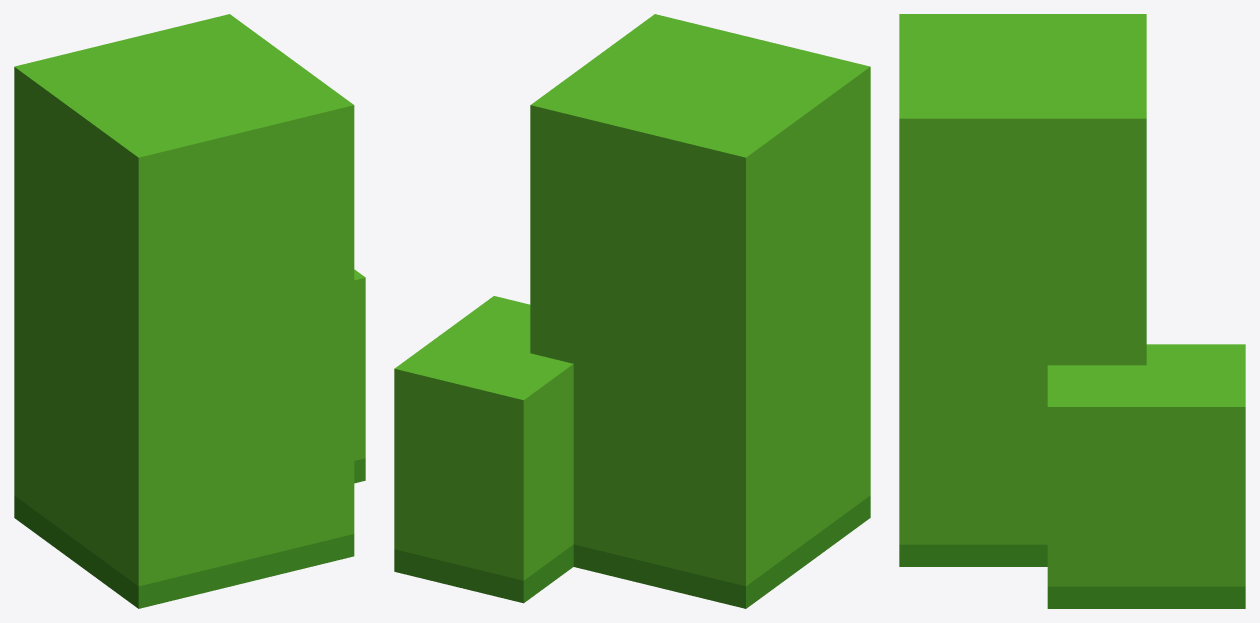
File: deco_bush_block_c.glb
3 views of the same model, side by side, from view 1: azimuth 30°, elevation 25°; view 2: azimuth 150°, elevation 25°; view 3: azimuth 270°, elevation 25° (orthographic).
Parts seen in each view (by area): view 1: model_0; view 2: model_0; view 3: model_0.
Boxes of the visible parts, x1,y1,x2,y2 form: model_0: [14, 14, 365, 608]; model_0: [394, 14, 870, 608]; model_0: [899, 14, 1245, 608].
Size of the model in its own units: 0.56 by 0.8 by 0.56.
